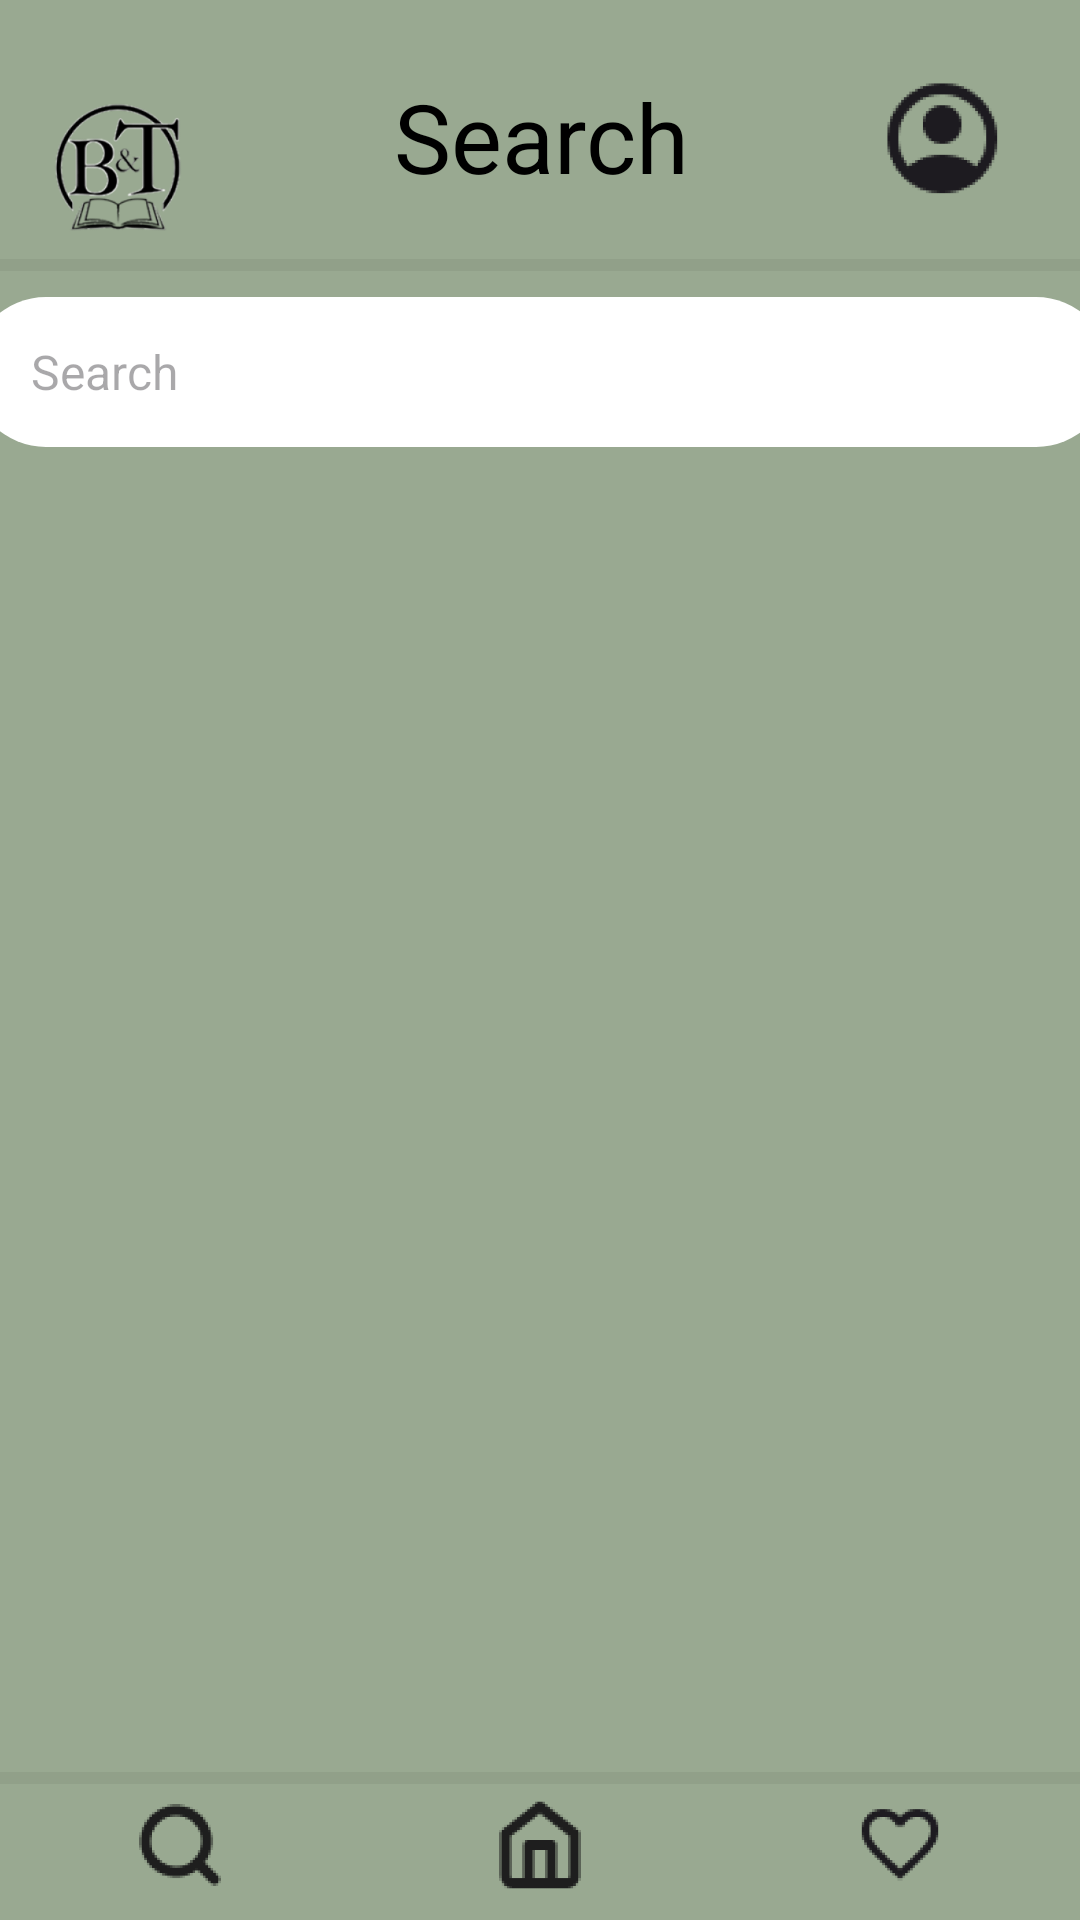

Icons on this 1080×1920 Android screen, each with its box as (x1, y1, x2, y2):
fav: (862, 1809, 938, 1879)
home: (499, 1801, 581, 1889)
search: (139, 1804, 221, 1886)
user: (887, 83, 997, 193)
